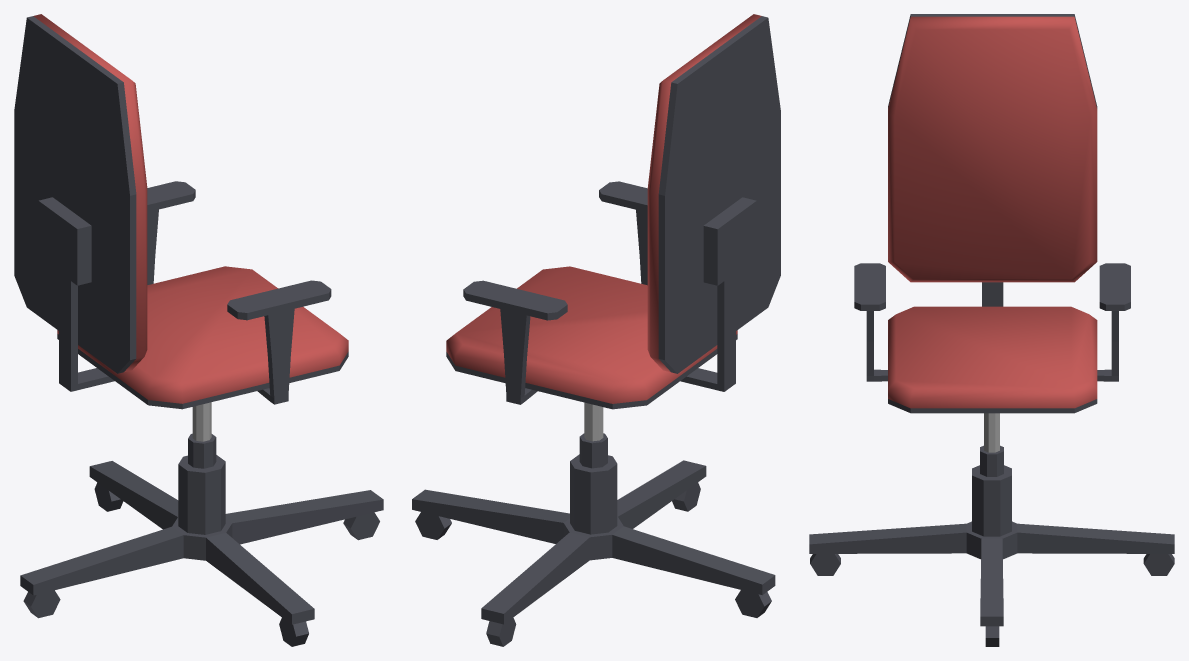
Rendered from Chair.fbx.
3 renders of one model, left to right at view 1: azimuth 30°, elevation 25°; view 2: azimuth 150°, elevation 25°; view 3: azimuth 270°, elevation 25°, orthographic. The views are drawn at different scales.
Parts seen in each view (by area): view 1: Chair; view 2: Chair; view 3: Chair.
Boxes of the visible parts, bbox=[...] form: Chair: bbox=[14, 14, 383, 646]; Chair: bbox=[412, 14, 780, 646]; Chair: bbox=[809, 14, 1174, 646].
Size of the model in its own units: 98.75 by 150 by 98.75.
